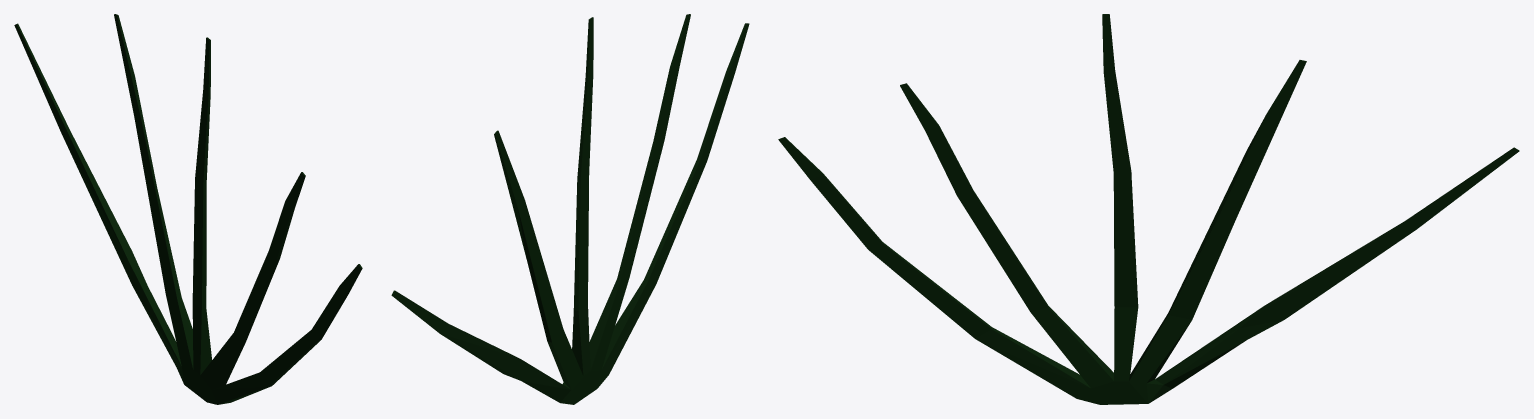
The model's file is Seaweed_Short.obj.
3 renders of one model, left to right at view 1: azimuth 30°, elevation 25°; view 2: azimuth 150°, elevation 25°; view 3: azimuth 270°, elevation 25°, orthographic. The views are drawn at different scales.
Size of the model in its own units: 0.079 by 1.89 by 3.28.
